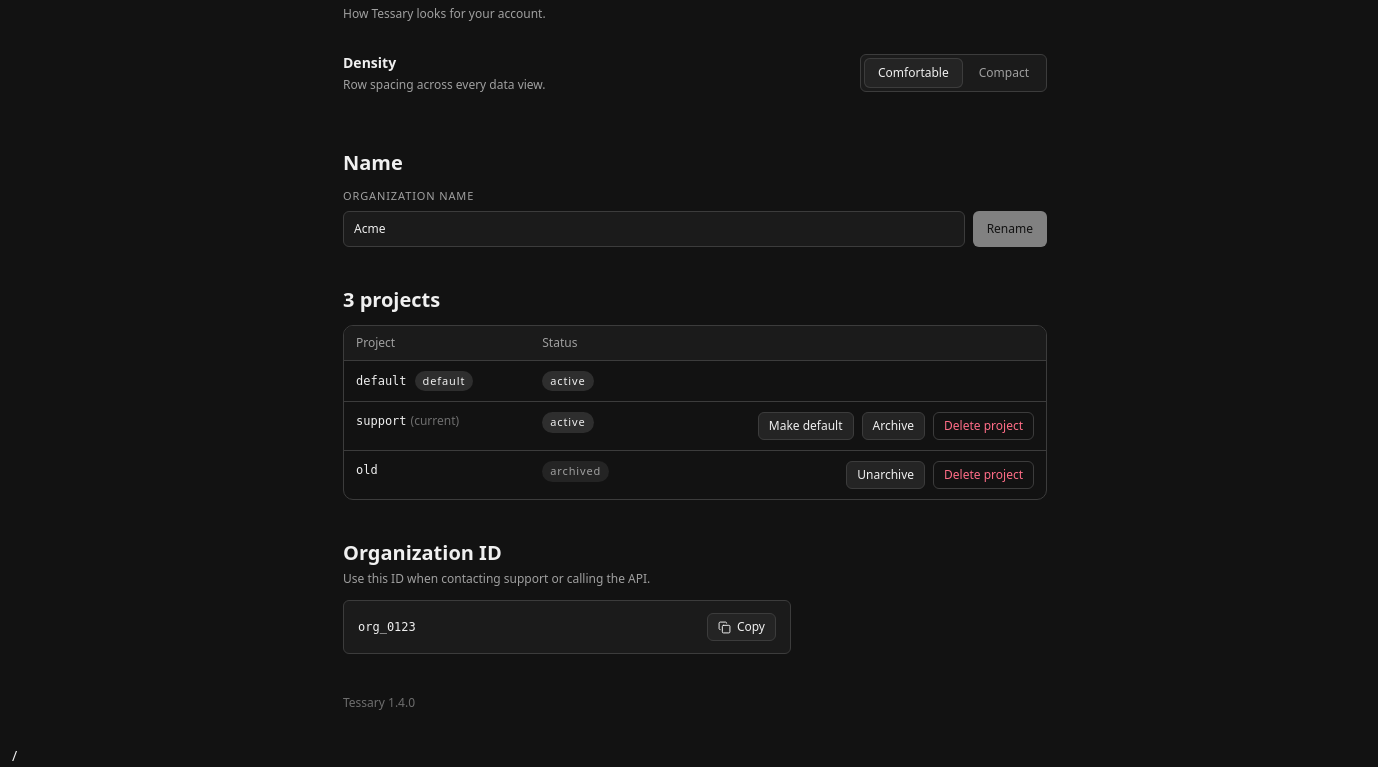
the organization ID and appearance › copies the ID once it has loaded, and says to copy by hand when the clipboard refuses
(page scrolled)
Click the button "Copy".
click(741, 627)  # box [707,613,776,641]
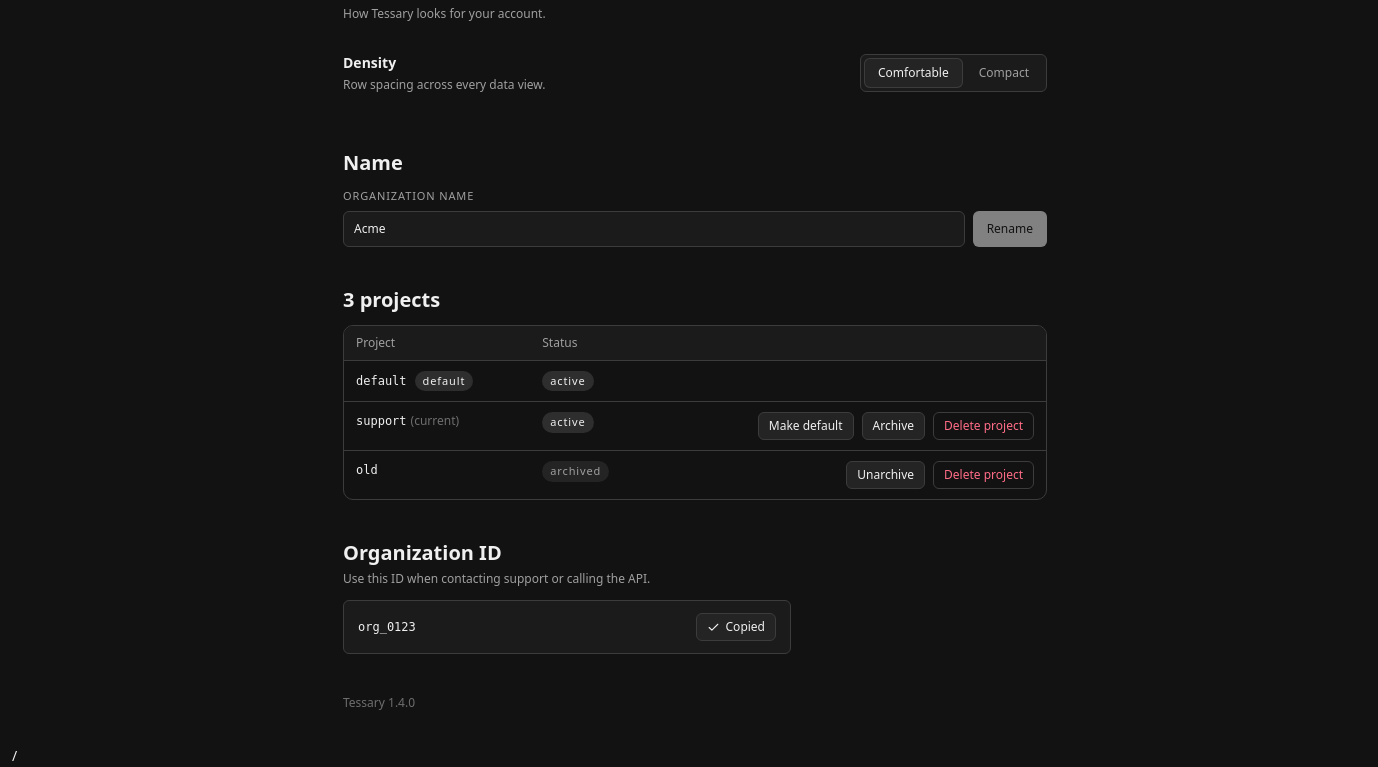
Click the button "Copied".
click(736, 627)  # box [696,613,776,641]
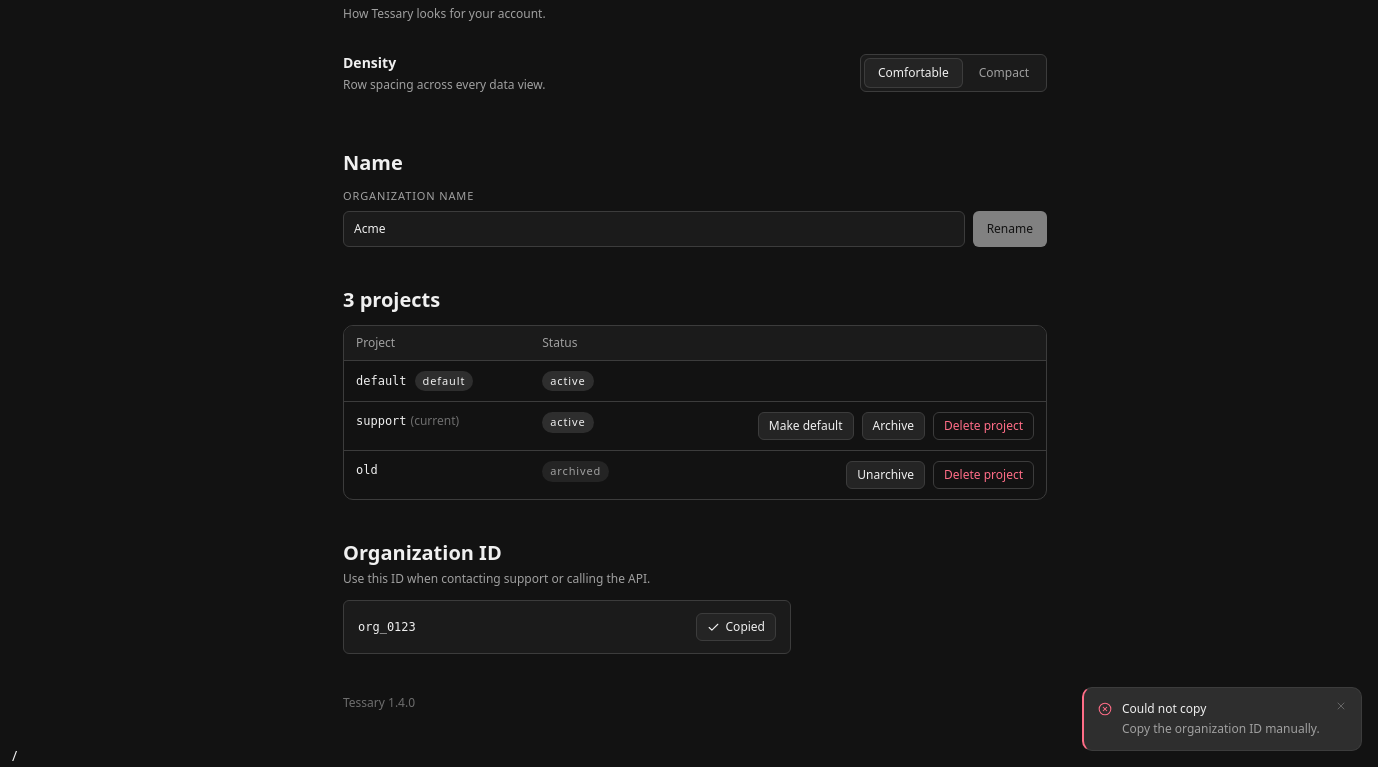
Expected: the text "Copy the organization ID manually." is shown, [1122,720,1325,738]
